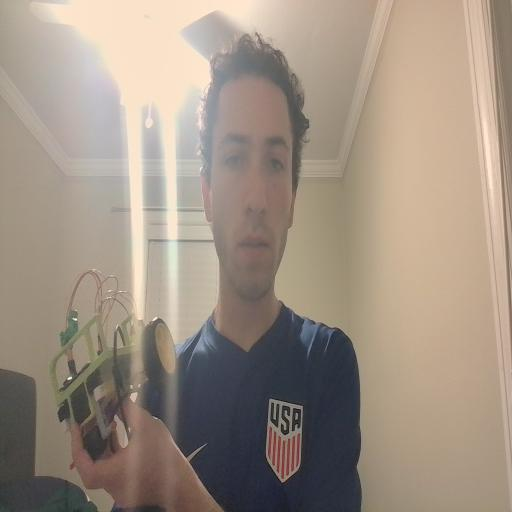green LEGO minifig: (59, 309, 79, 346)
